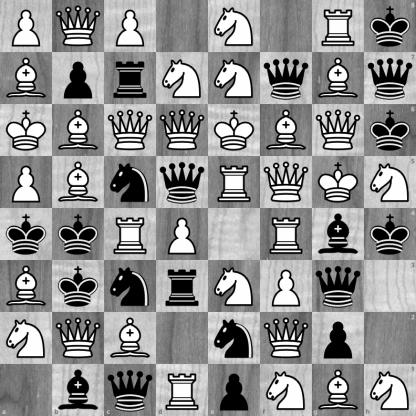B: (312, 364, 364, 416), (1, 53, 52, 104), (1, 261, 52, 312), (53, 105, 104, 156), (53, 157, 104, 208), (105, 313, 156, 364), (261, 105, 312, 156), (313, 53, 364, 104)
K: (1, 105, 52, 156), (209, 105, 260, 156), (313, 157, 364, 208)
N: (364, 156, 416, 209), (260, 364, 312, 416), (364, 364, 416, 416), (1, 313, 52, 364), (157, 53, 208, 104), (209, 1, 260, 52), (209, 53, 260, 104), (209, 261, 260, 312)
P: (1, 1, 52, 52), (1, 157, 52, 208), (105, 1, 156, 52), (157, 209, 208, 260), (261, 261, 312, 312)
Q: (53, 1, 104, 52), (53, 313, 104, 364), (105, 105, 156, 156), (157, 105, 208, 156), (261, 157, 312, 208), (261, 313, 312, 364), (313, 105, 364, 156)
R: (156, 364, 209, 416), (105, 209, 156, 260), (209, 157, 260, 208), (261, 209, 312, 260), (313, 1, 364, 52)
b: (52, 364, 104, 416), (313, 209, 364, 260)
board: (0, 0, 415, 415)
k: (364, 0, 416, 52), (364, 104, 416, 156), (364, 209, 416, 260), (1, 209, 52, 260), (53, 209, 104, 260), (53, 261, 104, 312)
n: (105, 157, 156, 208), (105, 261, 156, 312), (209, 313, 260, 364)
p: (209, 364, 260, 416), (53, 53, 104, 104), (313, 313, 364, 364)
q: (104, 364, 156, 416), (364, 52, 416, 104), (157, 157, 208, 208), (261, 53, 312, 104), (313, 261, 364, 312)
r: (105, 53, 156, 104), (157, 261, 208, 312)
